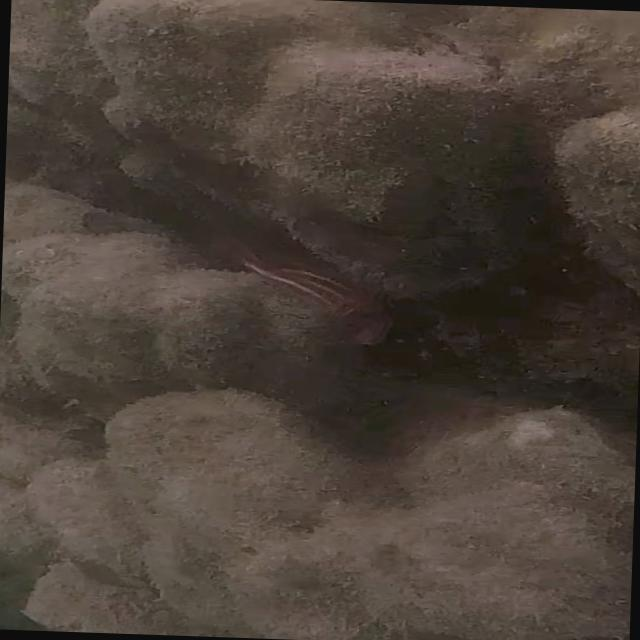Asker Baligi: (228, 236, 422, 362)
